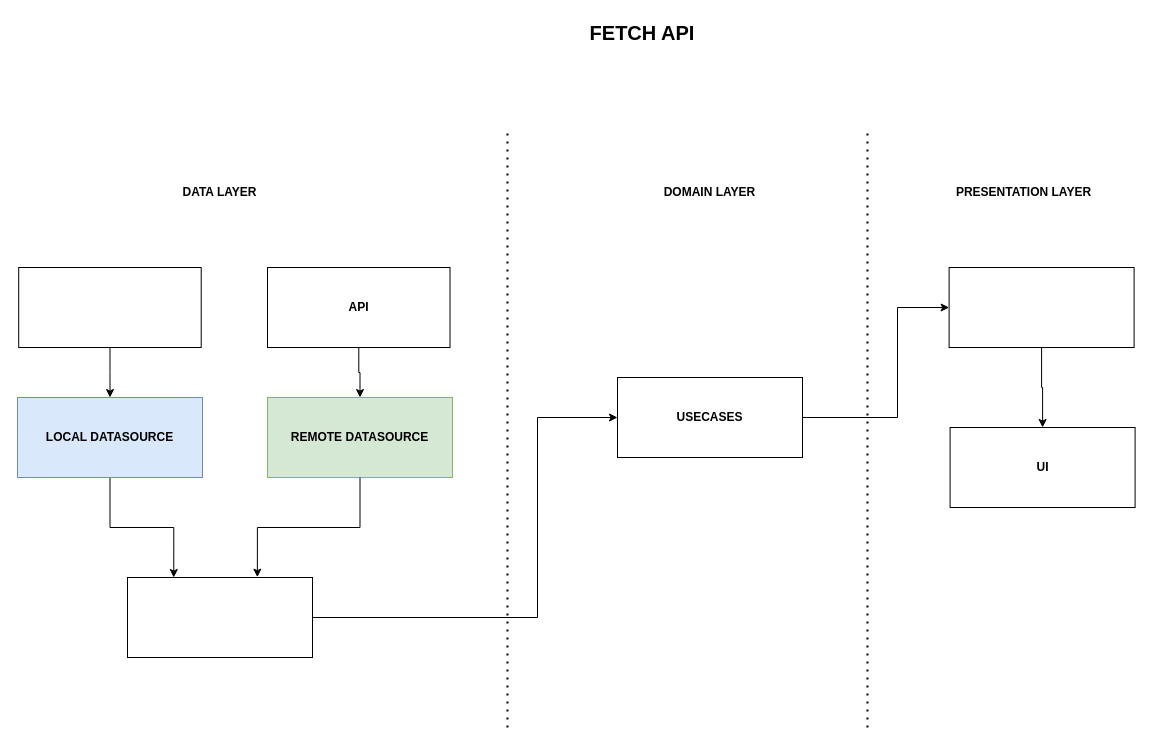
Image size: 1153x746. Some labels were removed from this diagram. The shapes that lost their labels are listed below. From the top down, each one's centre as x and y in pixels, then its label:
At (109,307): "LOCAL STORAGE".
At (1041,307): "VIEW MODEL".
At (219,617): "REPOSITORY".
